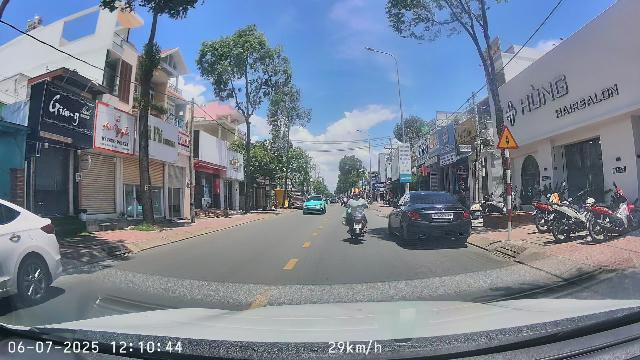209-giao-nhau-co-tin-hieu-den: (497, 125, 519, 149)
